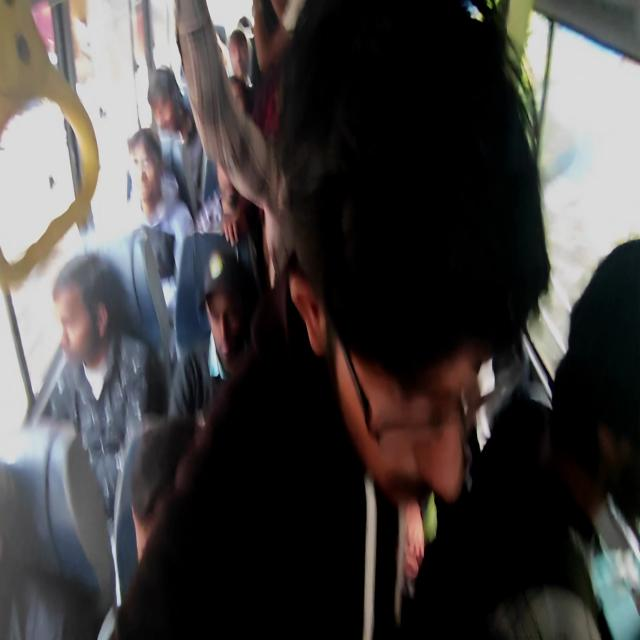person: (303, 58, 538, 390), (567, 252, 640, 539), (115, 433, 201, 591), (55, 253, 112, 418), (1, 470, 54, 638), (201, 272, 262, 388), (130, 49, 178, 124), (130, 137, 172, 221), (204, 157, 232, 219), (227, 21, 260, 72), (224, 80, 248, 129)
